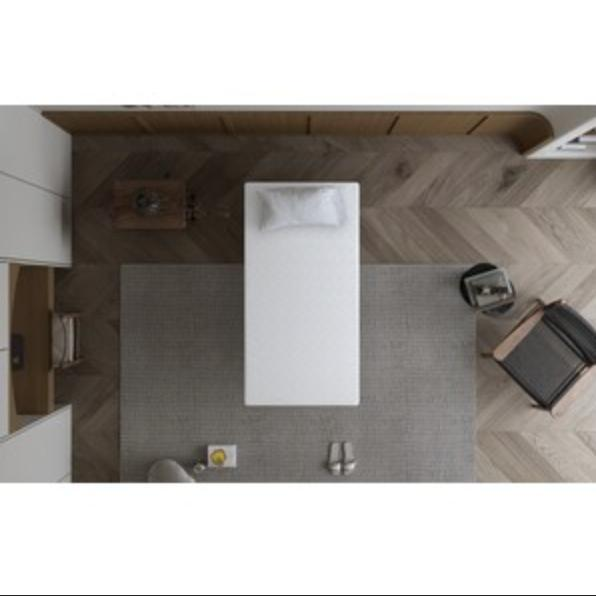Bed-Mattress: (242, 178, 366, 410)
